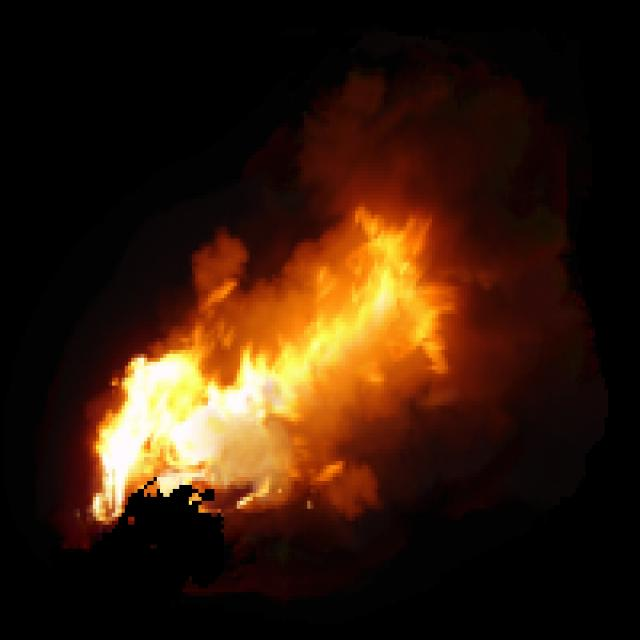fire: (26, 117, 585, 587)
